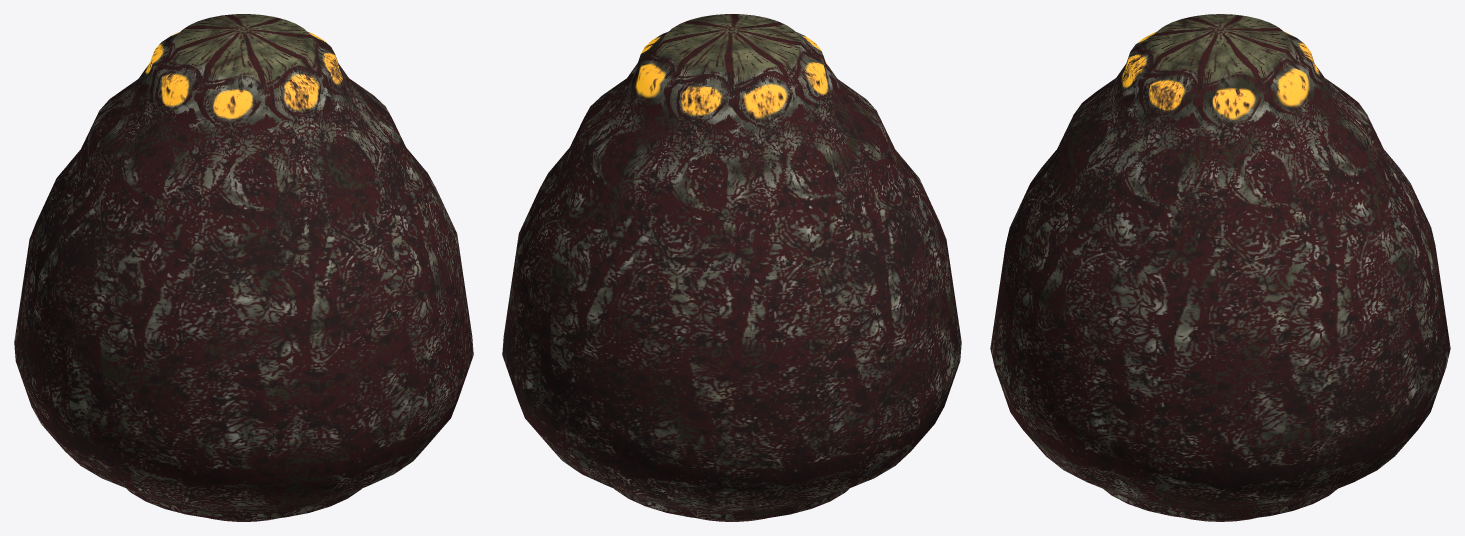
File: egg_5.glb
3 renders of one model, left to right at view 1: azimuth 30°, elevation 25°; view 2: azimuth 150°, elevation 25°; view 3: azimuth 270°, elevation 25°, orthographic.
Visible parts, largest first — view 1: Cylinder; view 2: Cylinder; view 3: Cylinder.
Boxes of the visible parts, x1,y1,x2,y2 form: Cylinder: (14, 14, 473, 521); Cylinder: (502, 14, 961, 521); Cylinder: (990, 14, 1450, 521).
Size of the model in its own units: 164 by 185 by 164.
1 material, 1 textured.
